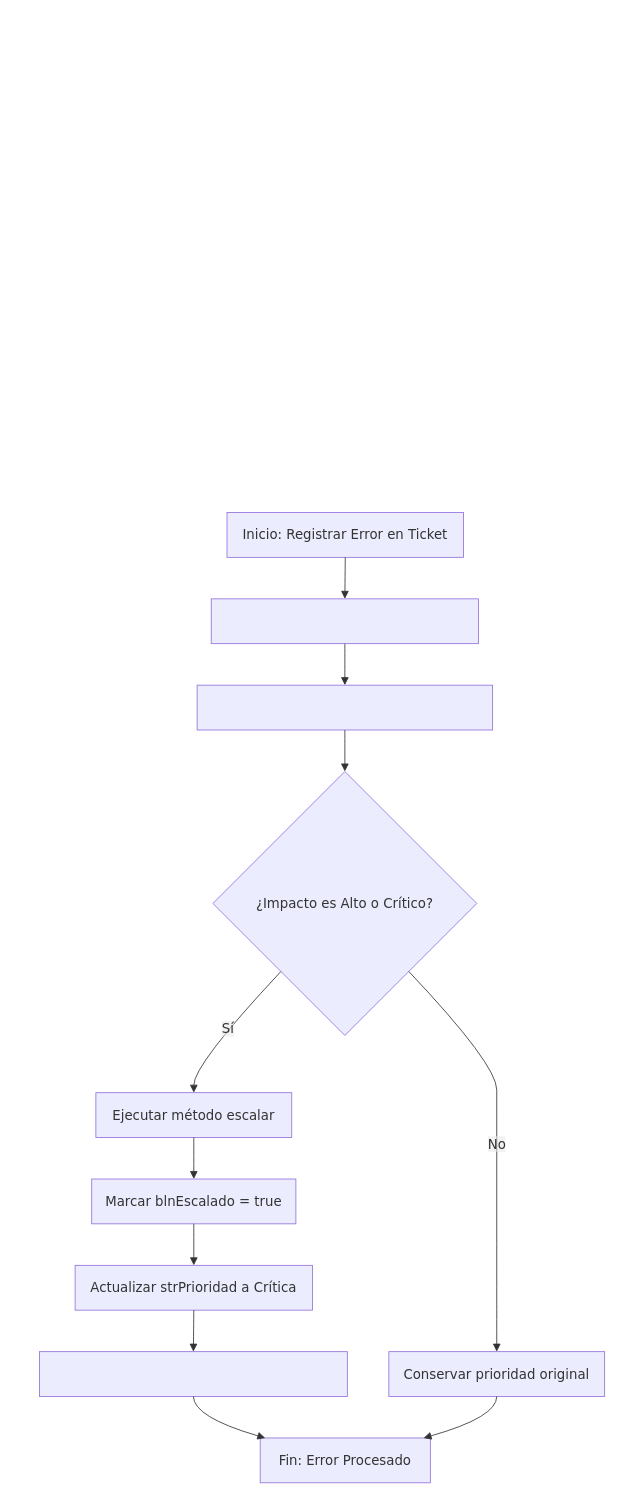
Some shapes in this 619 by 1497 pixel diagram are drawn without their labels. The shapes that lost their labels are listed below. From the top down, each one's box as (x1, y1, x2, y2) in pixels, then its label:
(210, 598, 478, 644): Ingresar Tipo, Descripción e Impacto
(196, 684, 493, 730): Agregar registro a lstErrores y lstBitacora
(39, 1351, 347, 1396): Registrar evento de escalado en lstBitacora
